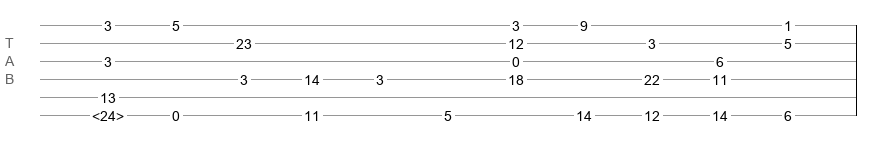0: (172, 108, 180, 118), (512, 54, 520, 64)
1: (784, 18, 792, 28)
11: (304, 108, 320, 118), (712, 72, 728, 82)
12: (508, 36, 524, 46), (644, 108, 660, 118)
13: (100, 90, 116, 100)
14: (304, 72, 320, 82), (576, 108, 592, 118), (712, 108, 728, 118)
18: (508, 72, 524, 82)
22: (644, 72, 660, 82)
23: (236, 36, 252, 46)
3: (104, 54, 112, 64), (104, 18, 112, 28), (240, 72, 248, 82), (376, 72, 384, 82), (512, 18, 520, 28), (648, 36, 656, 46)
5: (172, 18, 180, 28), (444, 108, 452, 118), (784, 36, 792, 46)
6: (716, 54, 724, 64), (784, 108, 792, 118)
9: (580, 18, 588, 28)
harmonic: (92, 108, 124, 118)
